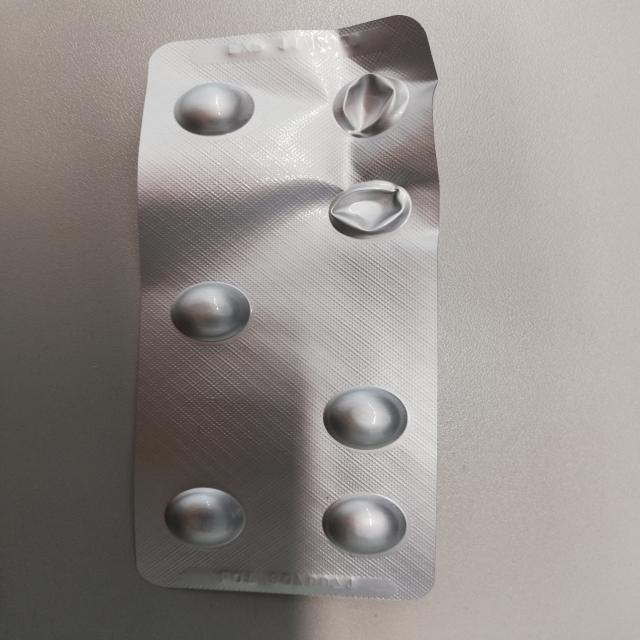Empty: (318, 175, 416, 246), (320, 66, 408, 140)
Pill: (314, 488, 414, 560), (318, 382, 410, 454), (164, 276, 257, 344), (155, 481, 246, 550), (170, 76, 253, 140)
